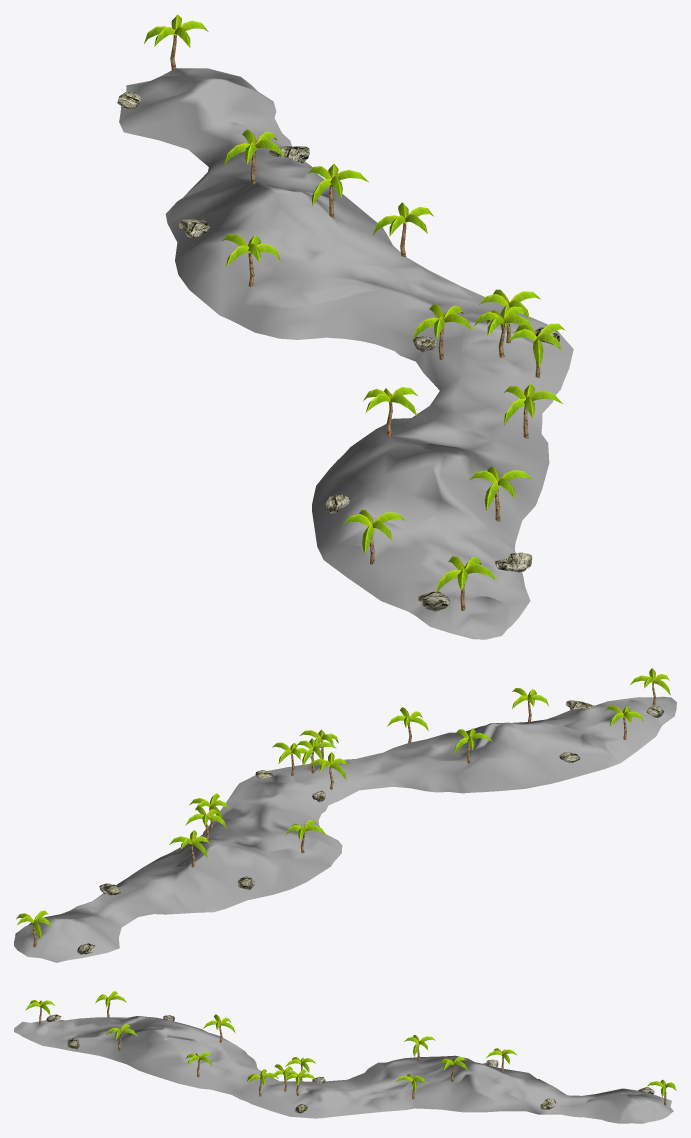
The model's file is desert_island_13.fbx.
3 renders of one model, top to bottom at view 1: azimuth 30°, elevation 25°; view 2: azimuth 150°, elevation 25°; view 3: azimuth 270°, elevation 25°, orthographic. The views are drawn at different scales.
Visible parts, largest first — view 1: desert_island_13; view 2: desert_island_13; view 3: desert_island_13.
Boxes of the visible parts, <box> form: desert_island_13: <box>117,14,573,639</box>; desert_island_13: <box>14,668,676,962</box>; desert_island_13: <box>14,991,676,1123</box>.
Bounding box in the file's own units: 0.5648 × 0.1044 × 1.5.
Materials: 2 (1 with a texture image).
